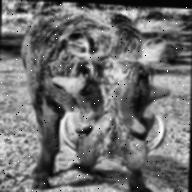boar: (10, 1, 173, 192)
